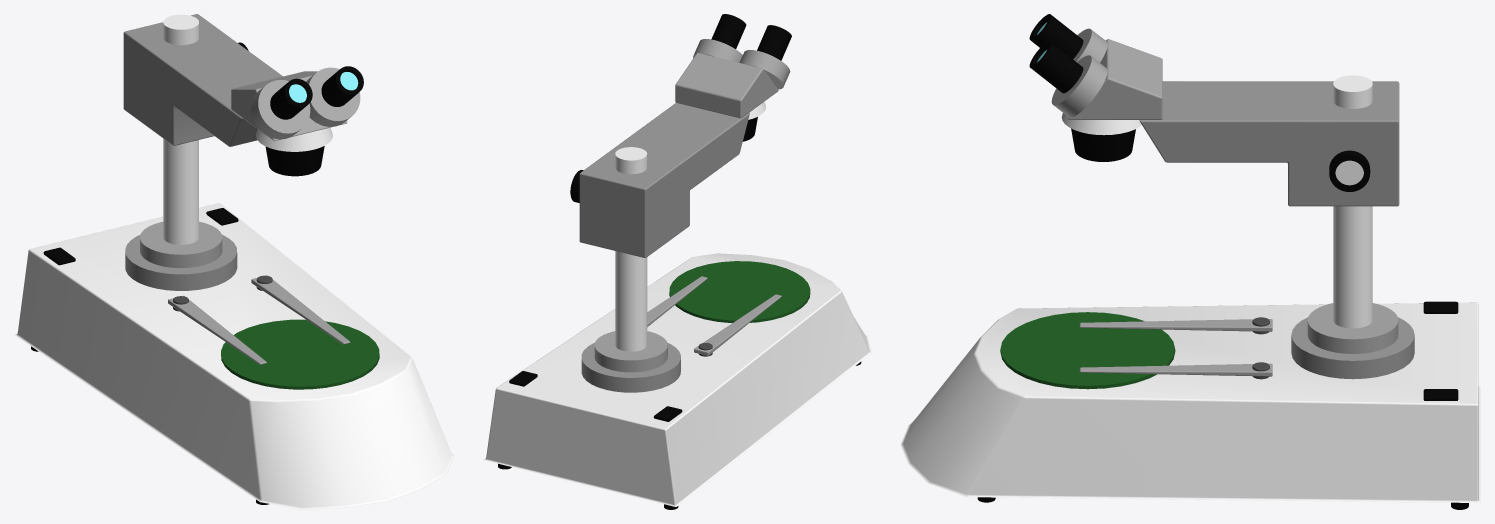
Rendered from microscope.fbx.
3 renders of one model, left to right at view 1: azimuth 30°, elevation 25°; view 2: azimuth 150°, elevation 25°; view 3: azimuth 270°, elevation 25°, orthographic. The views are drawn at different scales.
Parts seen in each view (by area): view 1: Plane, Cube.002, Cylinder.002, Cylinder.005, Cylinder.003, Cube, Cylinder.004, Cylinder.007, Cylinder.006, Cube.003, Cylinder.011, Cylinder.009 (+3 smaller); view 2: Plane, Cube.002, Cylinder.002, Cube.003, Cylinder.005, Cylinder.003, Cylinder.004, Cube, Cylinder.007, Cylinder.009, Cylinder.008, Cylinder.006 (+1 smaller); view 3: Plane, Cube.002, Cylinder.002, Cylinder.005, Cube.003, Cylinder.003, Cube, Cylinder.004, Cylinder.006, Cylinder.008, Cylinder.011, Cylinder.013 (+4 smaller).
Part boxes in pixels (bbox=[...]): Plane: bbox=[15, 203, 454, 509]; Cube.002: bbox=[123, 14, 282, 146]; Cylinder.002: bbox=[221, 319, 379, 389]; Cylinder.005: bbox=[163, 14, 198, 244]; Cylinder.003: bbox=[125, 234, 237, 290]; Cube: bbox=[168, 275, 350, 364]; Cylinder.004: bbox=[140, 221, 222, 268]; Cylinder.007: bbox=[251, 80, 310, 139]; Cylinder.006: bbox=[306, 67, 360, 126]; Cube.003: bbox=[231, 71, 347, 140]; Cylinder.011: bbox=[265, 146, 324, 176]; Cylinder.009: bbox=[270, 78, 312, 119]; Plane: bbox=[484, 253, 871, 506]; Cube.002: bbox=[579, 103, 749, 257]; Cylinder.002: bbox=[669, 261, 810, 322]; Cube.003: bbox=[675, 53, 778, 118]; Cylinder.005: bbox=[615, 147, 647, 351]; Cylinder.003: bbox=[581, 342, 680, 392]; Cylinder.004: bbox=[594, 331, 667, 372]; Cube: bbox=[647, 276, 781, 356]; Cylinder.007: bbox=[739, 50, 790, 89]; Cylinder.009: bbox=[757, 25, 791, 60]; Cylinder.008: bbox=[711, 14, 746, 48]; Cylinder.006: bbox=[693, 39, 742, 62]; Plane: bbox=[900, 302, 1480, 502]; Cube.002: bbox=[1139, 81, 1399, 206]; Cylinder.002: bbox=[1000, 312, 1175, 389]; Cylinder.005: bbox=[1333, 75, 1372, 328]; Cube.003: bbox=[1068, 39, 1162, 119]; Cylinder.003: bbox=[1291, 317, 1414, 379]; Cube: bbox=[1079, 317, 1272, 379]; Cylinder.004: bbox=[1307, 303, 1398, 353]; Cylinder.006: bbox=[1051, 55, 1107, 117]; Cylinder.008: bbox=[1029, 41, 1083, 93]; Cylinder.011: bbox=[1071, 128, 1135, 161]; Cylinder.013: bbox=[1329, 150, 1370, 191].
Bounding box in the file's own units: 93.62 × 160 × 197.
